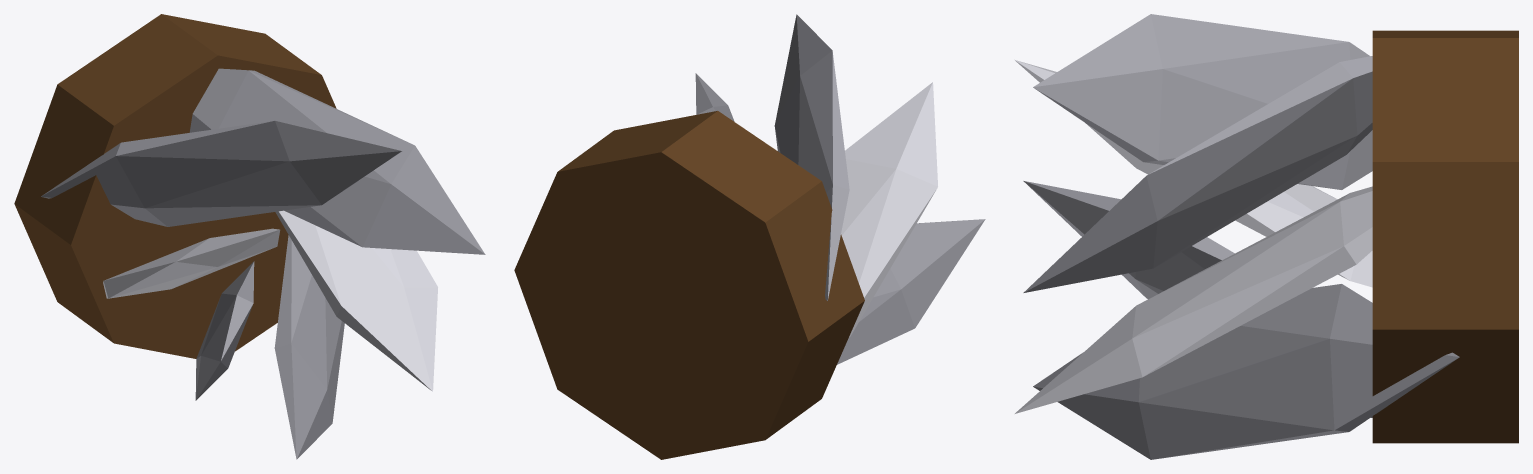
Rendered from 2_sprouting.obj.
3 views of the same model, side by side, from view 1: azimuth 30°, elevation 25°; view 2: azimuth 150°, elevation 25°; view 3: azimuth 270°, elevation 25° (orthographic). The views are drawn at different scales.
Visible parts, largest first — view 1: kwuarm_2_sprouting; view 2: kwuarm_2_sprouting; view 3: kwuarm_2_sprouting.
Part boxes in pixels (x1=…): kwuarm_2_sprouting: x1=14, y1=14, x2=485, y2=459; kwuarm_2_sprouting: x1=514, y1=14, x2=985, y2=459; kwuarm_2_sprouting: x1=1015, y1=14, x2=1518, y2=459.
Bounding box in the file's own units: 0.12 × 0.1235 × 0.138.
